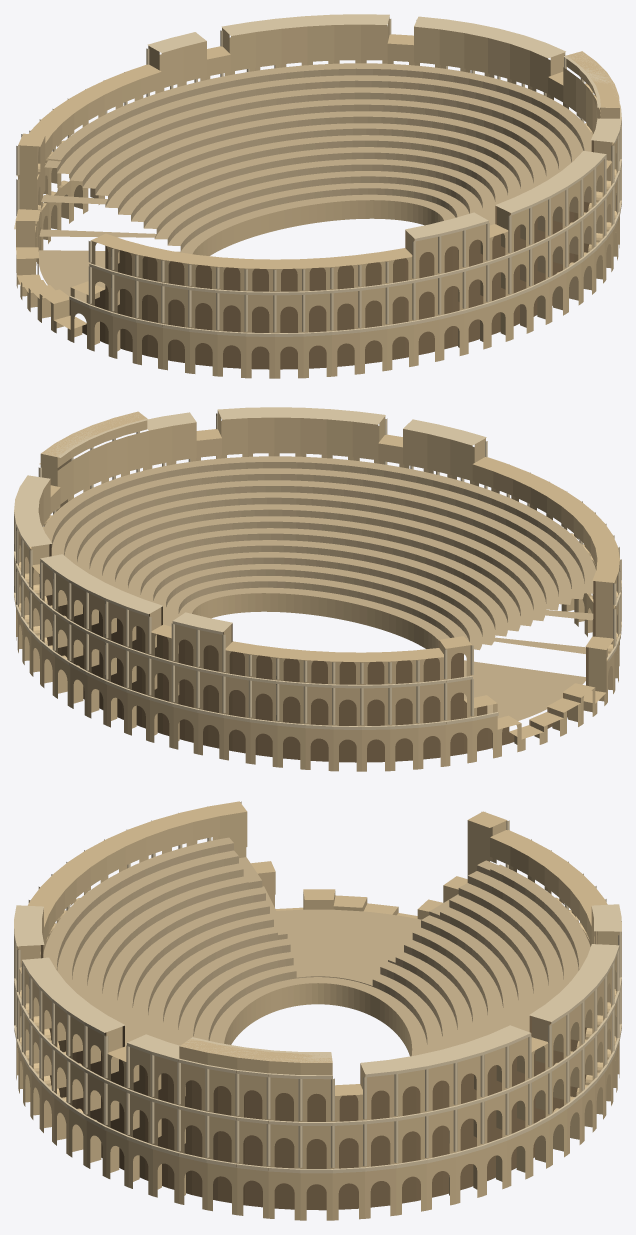
File: el-jem-amphitheatre.detail.glb
3 views of the same model, one above another, from view 1: azimuth 30°, elevation 25°; view 2: azimuth 150°, elevation 25°; view 3: azimuth 270°, elevation 25° (orthographic). The views are drawn at different scales.
Visible parts, largest first — view 1: Amphitheatre of El Jem; view 2: Amphitheatre of El Jem; view 3: Amphitheatre of El Jem.
Boxes of the visible parts, x1=… form: Amphitheatre of El Jem: x1=14, y1=14, x2=621, y2=378; Amphitheatre of El Jem: x1=14, y1=407, x2=621, y2=771; Amphitheatre of El Jem: x1=14, y1=801, x2=621, y2=1220.
Bounding box in the file's own units: 147 × 36 × 126.
